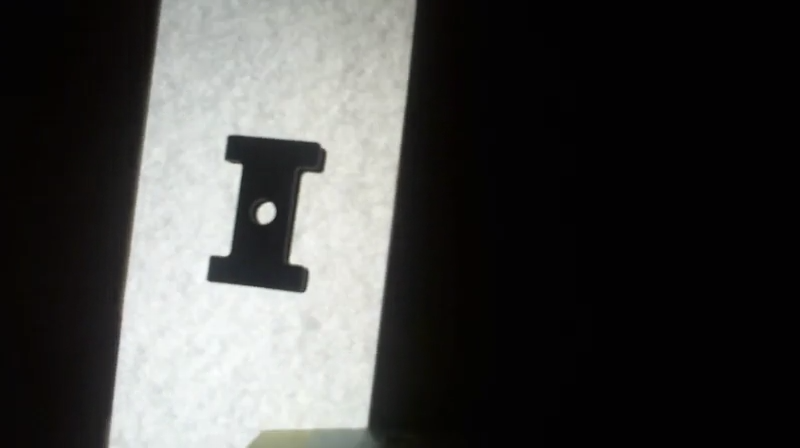O002: (201, 130, 326, 295)
